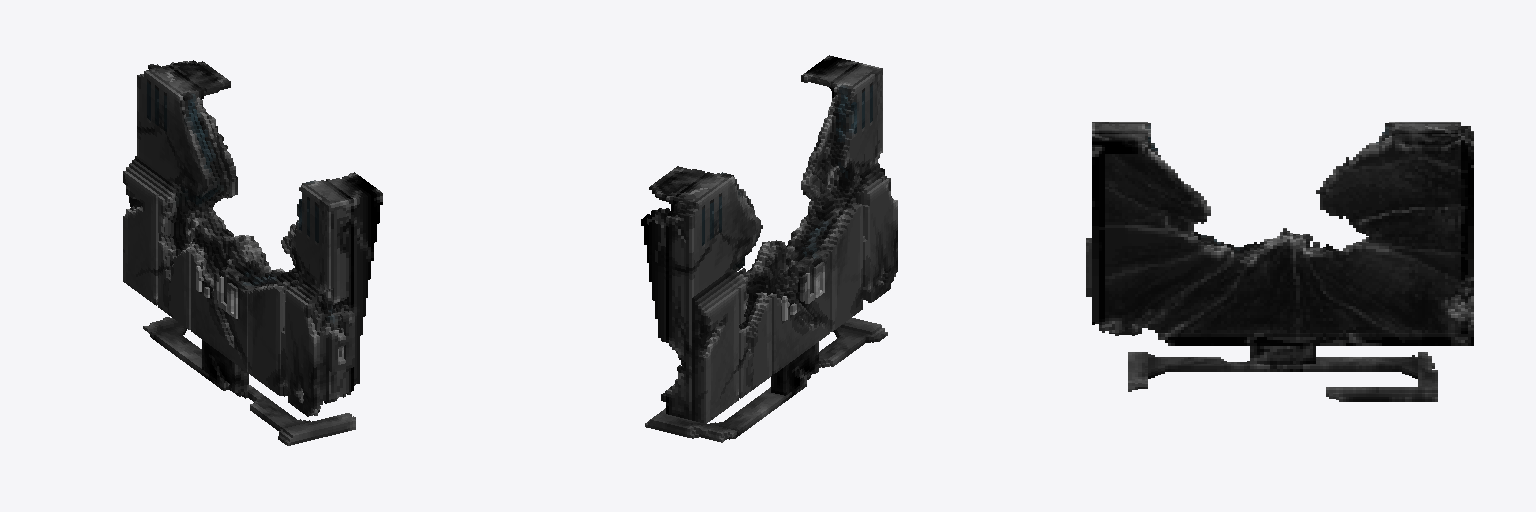
3 renders of one model, left to right at view 1: azimuth 30°, elevation 25°; view 2: azimuth 150°, elevation 25°; view 3: azimuth 270°, elevation 25°, orthographic.
Parts seen in each view (by area): view 1: SQUARE_SCREEN_BW_part_part; view 2: SQUARE_SCREEN_BW_part_part; view 3: SQUARE_SCREEN_BW_part_part.
Part boxes in pixels (x1,y1,x2,y2): SQUARE_SCREEN_BW_part_part: (123,60,382,445); SQUARE_SCREEN_BW_part_part: (641,55,897,442); SQUARE_SCREEN_BW_part_part: (1086,122,1473,401).
Size of the model in its own units: 31 by 83 by 118.
Materials: 1 (1 with a texture image).